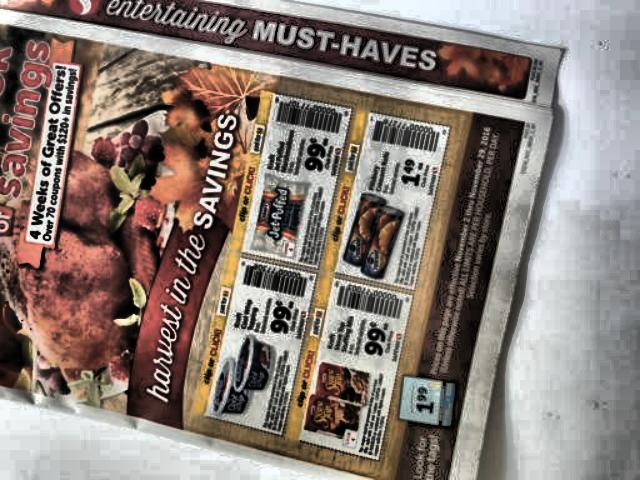Paper: (0, 0, 581, 480)
